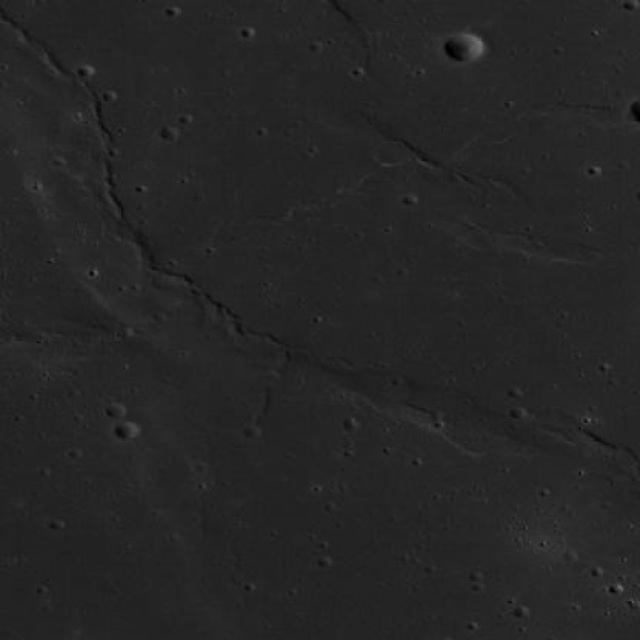crater: (442, 32, 484, 63), (114, 420, 138, 438)
